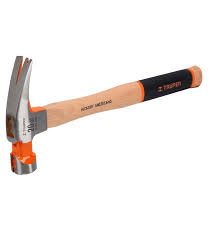martillu: (2, 53, 203, 184)
